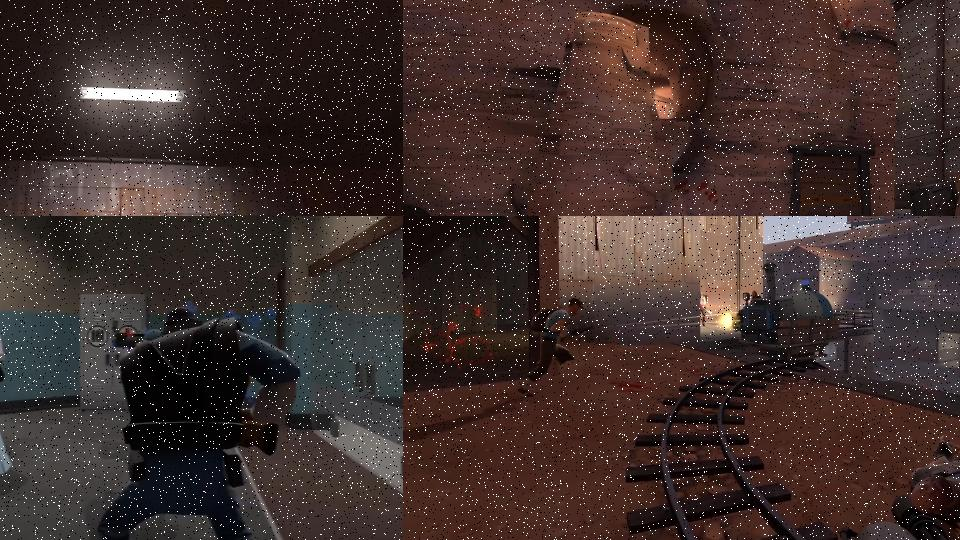Enemy: (82, 305, 309, 540), (516, 288, 596, 407), (0, 303, 35, 525), (698, 291, 713, 329)
